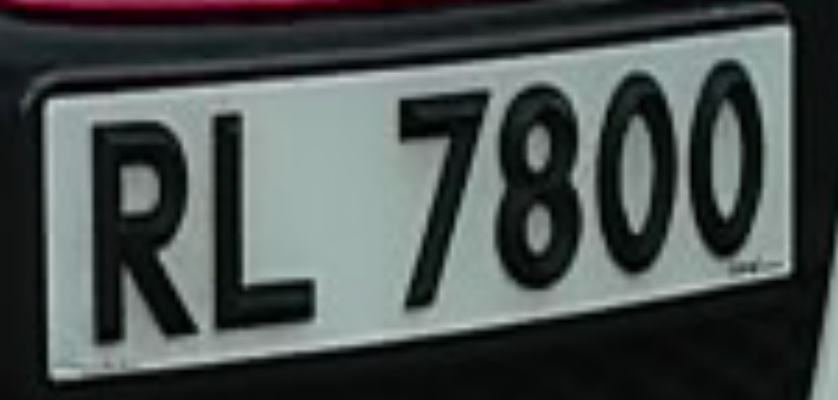0: (589, 47, 687, 297), (682, 38, 777, 284)
7: (379, 72, 498, 332)
8: (485, 61, 592, 308)
L: (198, 85, 341, 355)
R: (81, 96, 203, 371)
